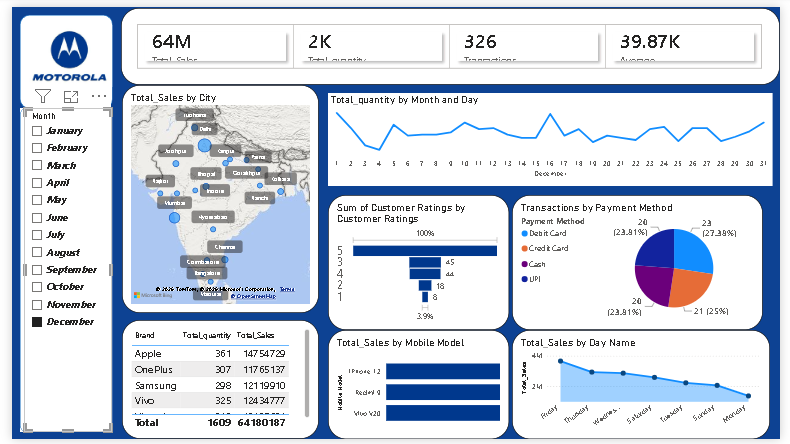

What the dashboard file says about the page in this screenshot:
{"tool":"powerbi","page":{"name":"Page 4","canvas":[1280,720],"ordinal":3},"visuals":[{"type":"shape","box":[12.8,12.8,154.5,155.9],"z":0},{"type":"image","box":[25.5,19.8,141.7,123.3],"z":1000},{"type":"shape","box":[12.8,168.7,136.1,540],"z":2000},{"type":"slicer","fields":{"Values":["Sales Data.Date.Variation.Date Hierarchy.Month"]},"box":[19.8,168.7,147.4,540],"z":3000},{"type":"cardVisual","fields":{"Data":["Sales Data.Total_Sales","Sales Data.Total_quantity","Sales Data.Transactions","Sales Data.Average"]},"box":[181.7,1.7,1098.3,128.3],"z":4000},{"type":"map","fields":{"Category":["Sales Data.City"],"Size":["Sales Data.Total_Sales"]},"box":[183.3,130,328.3,380],"z":5000},{"type":"lineChart","fields":{"Y":["Sales Data.Total_quantity"],"Category":["Sales Data.Date.Variation.Date Hierarchy.Month","Sales Data.Date.Variation.Date Hierarchy.Day"]},"box":[527.5,142.8,740.8,154.5],"z":6000},{"type":"hundredPercentStackedBarChart","fields":{"Category":["Sales Data.Mobile Model"],"Y":["Sales Data.Total_Sales"]},"box":[526.7,538.3,301.7,181.7],"z":7000},{"type":"pieChart","fields":{"Category":["Sales Data.Payment Method"],"Y":["Sales Data.Transactions"]},"box":[833.2,314.1,418.3,225.1],"z":9000},{"type":"funnel","fields":{"Category":["Sales Data.Customer Ratings"],"Y":["Sum(Sales Data.Customer Ratings)"]},"box":[526.7,313.3,301.7,225],"z":9001},{"type":"areaChart","fields":{"Category":["Sales Data.Day Name"],"Y":["Sales Data.Total_Sales"]},"box":[833.3,538.3,430,181.7],"z":9002},{"type":"tableEx","fields":{"Values":["Sales Data.Brand","Sales Data.Total_quantity","Sales Data.Total_Sales"]},"box":[183.3,521.7,328.3,198.3],"z":9003}]}

Visuals, with their boxes in screenshot pixels (x1, y1, x2, y2):
shape: 16:10:110:105
image: 24:14:110:89
shape: 16:105:99:433
slicer - Sales Data.Date.Variation.Date Hierarchy.Month: 20:105:110:433
cardVisual - Sales Data.Total_Sales x Sales Data.Total_quantity: 119:3:787:81
map - Sales Data.City x Sales Data.Total_Sales: 120:81:320:312
lineChart - Sales Data.Total_quantity x Sales Data.Date.Variation.Date Hierarchy.Month: 329:89:780:183
hundredPercentStackedBarChart - Sales Data.Mobile Model x Sales Data.Total_Sales: 329:330:512:440
pieChart - Sales Data.Payment Method x Sales Data.Transactions: 515:193:770:330
funnel - Sales Data.Customer Ratings x Sum(Sales Data.Customer Ratings): 329:193:512:330
areaChart - Sales Data.Day Name x Sales Data.Total_Sales: 515:330:777:440
tableEx - Sales Data.Brand x Sales Data.Total_quantity: 120:320:320:440
